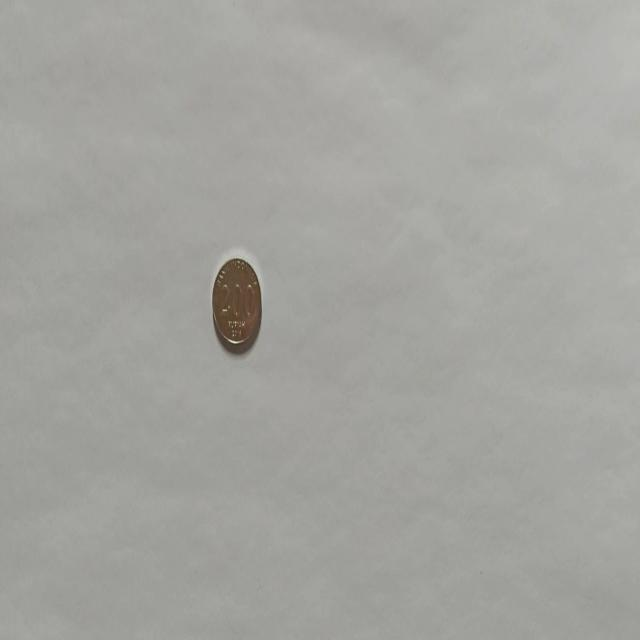dua ratus rupiah: (211, 255, 262, 351)
